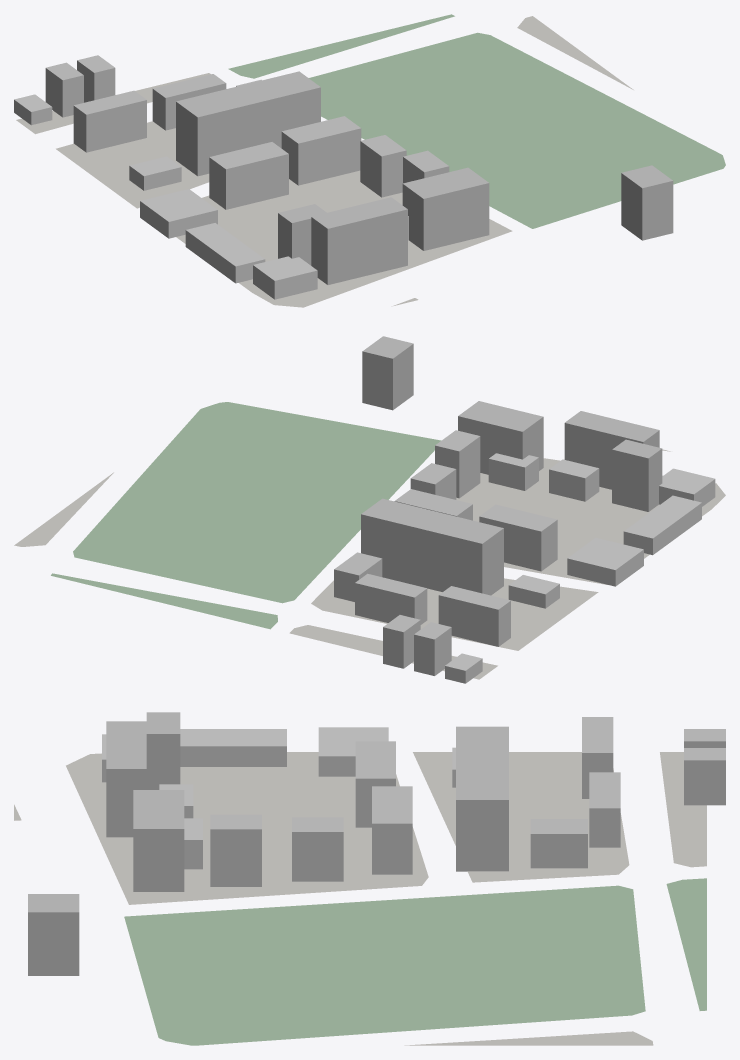
File: 129_112_mid.glb
The picture shows the model from 3 angles, top to bottom: view 1: azimuth 30°, elevation 25°; view 2: azimuth 150°, elevation 25°; view 3: azimuth 270°, elevation 25°; orthographic projection. The views are drawn at different scales.
Bounding box in the file's own units: 507 × 57.81 × 514.
